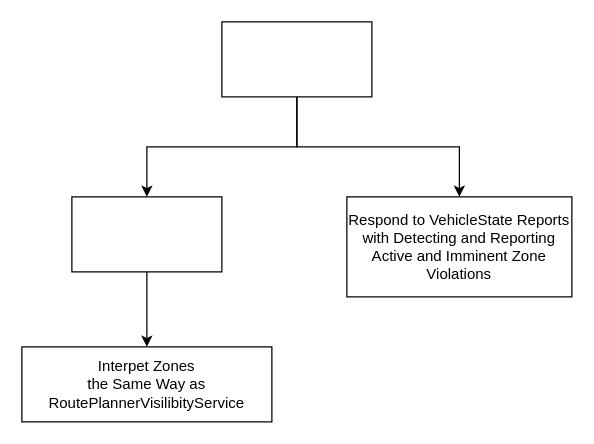
Some shapes in this 594 by 444 pixel diagram are drawn without their labels. The centre of each missing label's shape, as x and y in pixels:
Record Zones and Vehicles: the point at 146,234
ZoneAlertService: the point at 296,59
